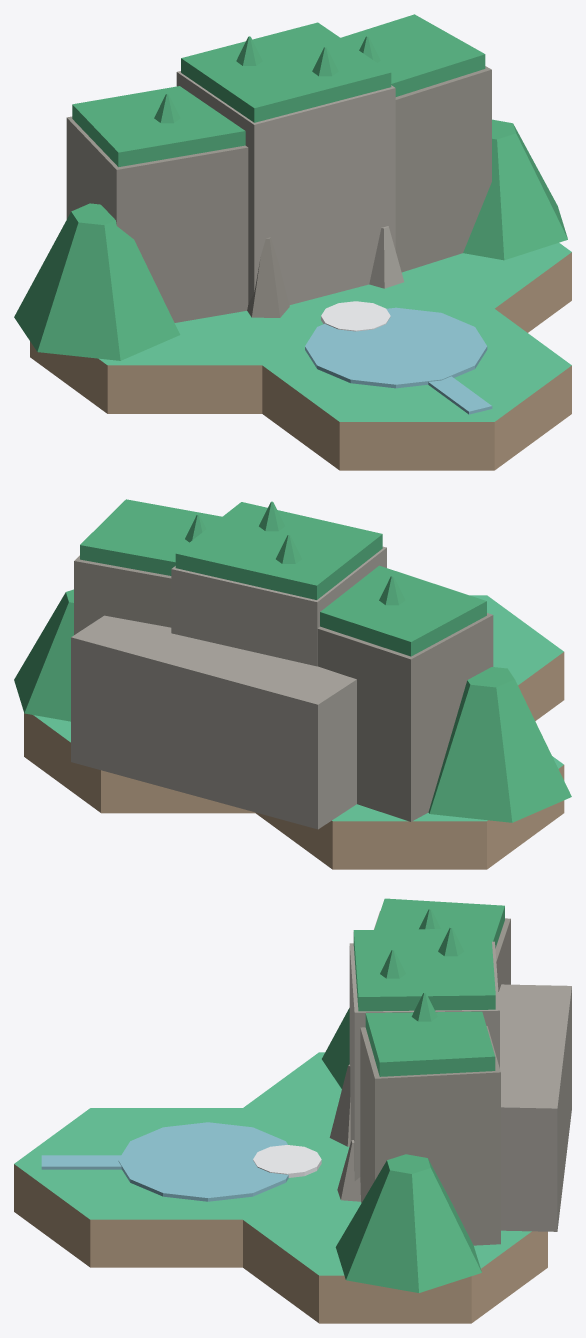
File: waterfall-cliff.glb
3 renders of one model, top to bottom at view 1: azimuth 30°, elevation 25°; view 2: azimuth 150°, elevation 25°; view 3: azimuth 270°, elevation 25°, orthographic.
Parts seen in each view (by area): view 1: base2, cliff_c, cliff_w, base0, shoulder_w, cliff_e, top_c, base1, pool, top_w, shoulder_e, top_e (+4 smaller); view 2: cliff_back, cliff_w, shoulder_w, base0, top_c, cliff_c, top_w, base1, top_e, cliff_e, base2, shoulder_e (+3 smaller); view 3: base2, base1, cliff_e, cliff_back, shoulder_e, top_c, pool, top_e, base0, top_w, cliff_c, pool_foam (+5 smaller).
Boxes of the visible parts, bbox=[...] form: base2: bbox=[262, 308, 571, 470]; cliff_c: bbox=[176, 71, 395, 305]; cliff_w: bbox=[66, 116, 248, 322]; base0: bbox=[30, 296, 333, 413]; shoulder_w: bbox=[14, 203, 180, 360]; cliff_e: bbox=[395, 66, 491, 272]; top_c: bbox=[181, 22, 391, 122]; base1: bbox=[323, 243, 571, 332]; pool: bbox=[305, 307, 487, 388]; top_w: bbox=[72, 86, 245, 167]; shoulder_e: bbox=[463, 119, 567, 260]; top_e: bbox=[340, 14, 485, 96]; cliff_back: bbox=[71, 615, 356, 829]; cliff_w: bbox=[317, 613, 493, 821]; shoulder_w: bbox=[428, 667, 571, 822]; base0: bbox=[255, 756, 564, 869]; top_c: bbox=[175, 502, 382, 599]; cliff_c: bbox=[171, 546, 386, 666]; top_w: bbox=[320, 565, 486, 656]; base1: bbox=[24, 713, 255, 813]; top_e: bbox=[80, 499, 221, 575]; cliff_e: bbox=[74, 555, 171, 634]; base2: bbox=[470, 595, 564, 720]; shoulder_e: bbox=[14, 589, 73, 721]; base2: bbox=[14, 1108, 301, 1267]; base1: bbox=[243, 1164, 547, 1323]; cliff_e: bbox=[360, 1026, 500, 1245]; cliff_back: bbox=[498, 984, 571, 1231]; shoulder_e: bbox=[335, 1154, 481, 1292]; top_c: bbox=[353, 928, 495, 1011]; pool: bbox=[118, 1122, 288, 1201]; top_e: bbox=[365, 1011, 495, 1076]; base0: bbox=[243, 1052, 349, 1163]; top_w: bbox=[374, 898, 504, 948]; cliff_c: bbox=[349, 941, 499, 1180]; pool_foam: bbox=[253, 1145, 321, 1177].
Bounding box in the file's own units: 2.33 × 1.14 × 2.11.
